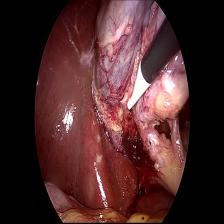Hook: (125, 60, 152, 116)
